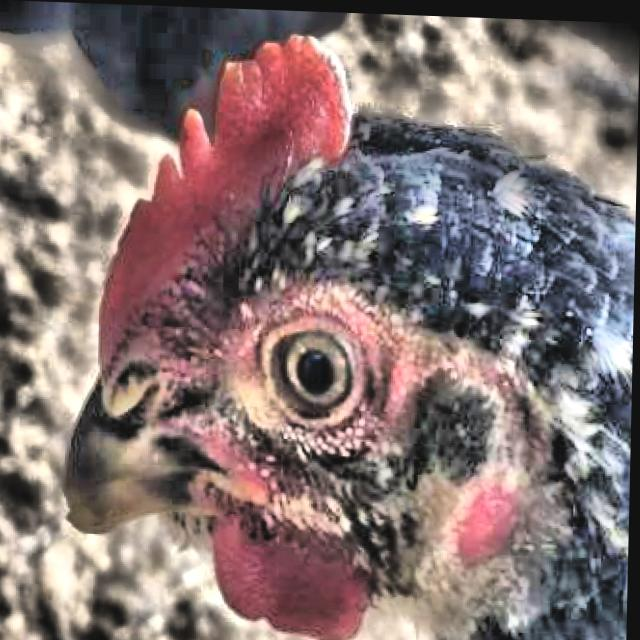Healthy: (232, 305, 373, 435)
